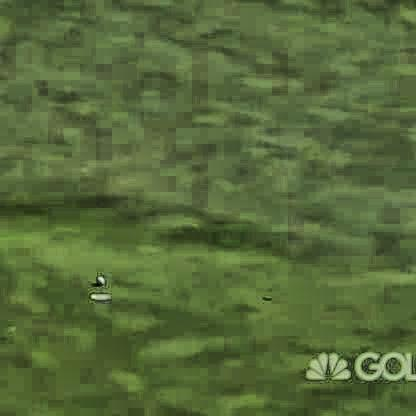golfball: (94, 271, 104, 281)
